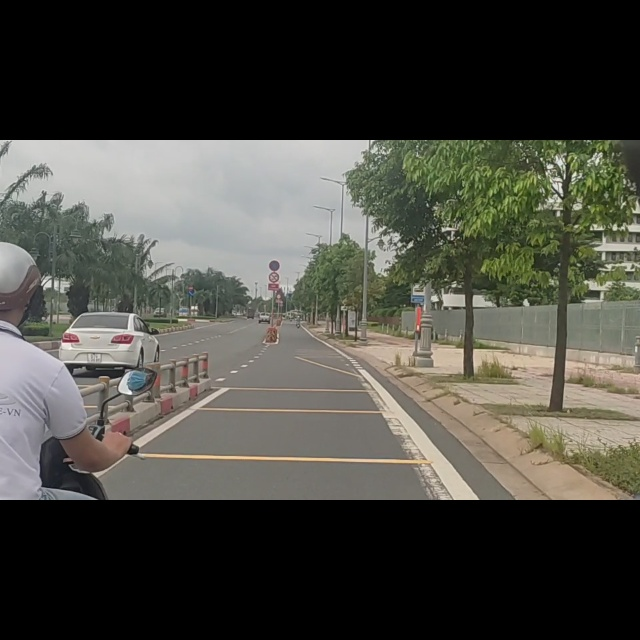bien_hieu_lenh: (268, 211, 280, 232), (269, 233, 279, 254)
